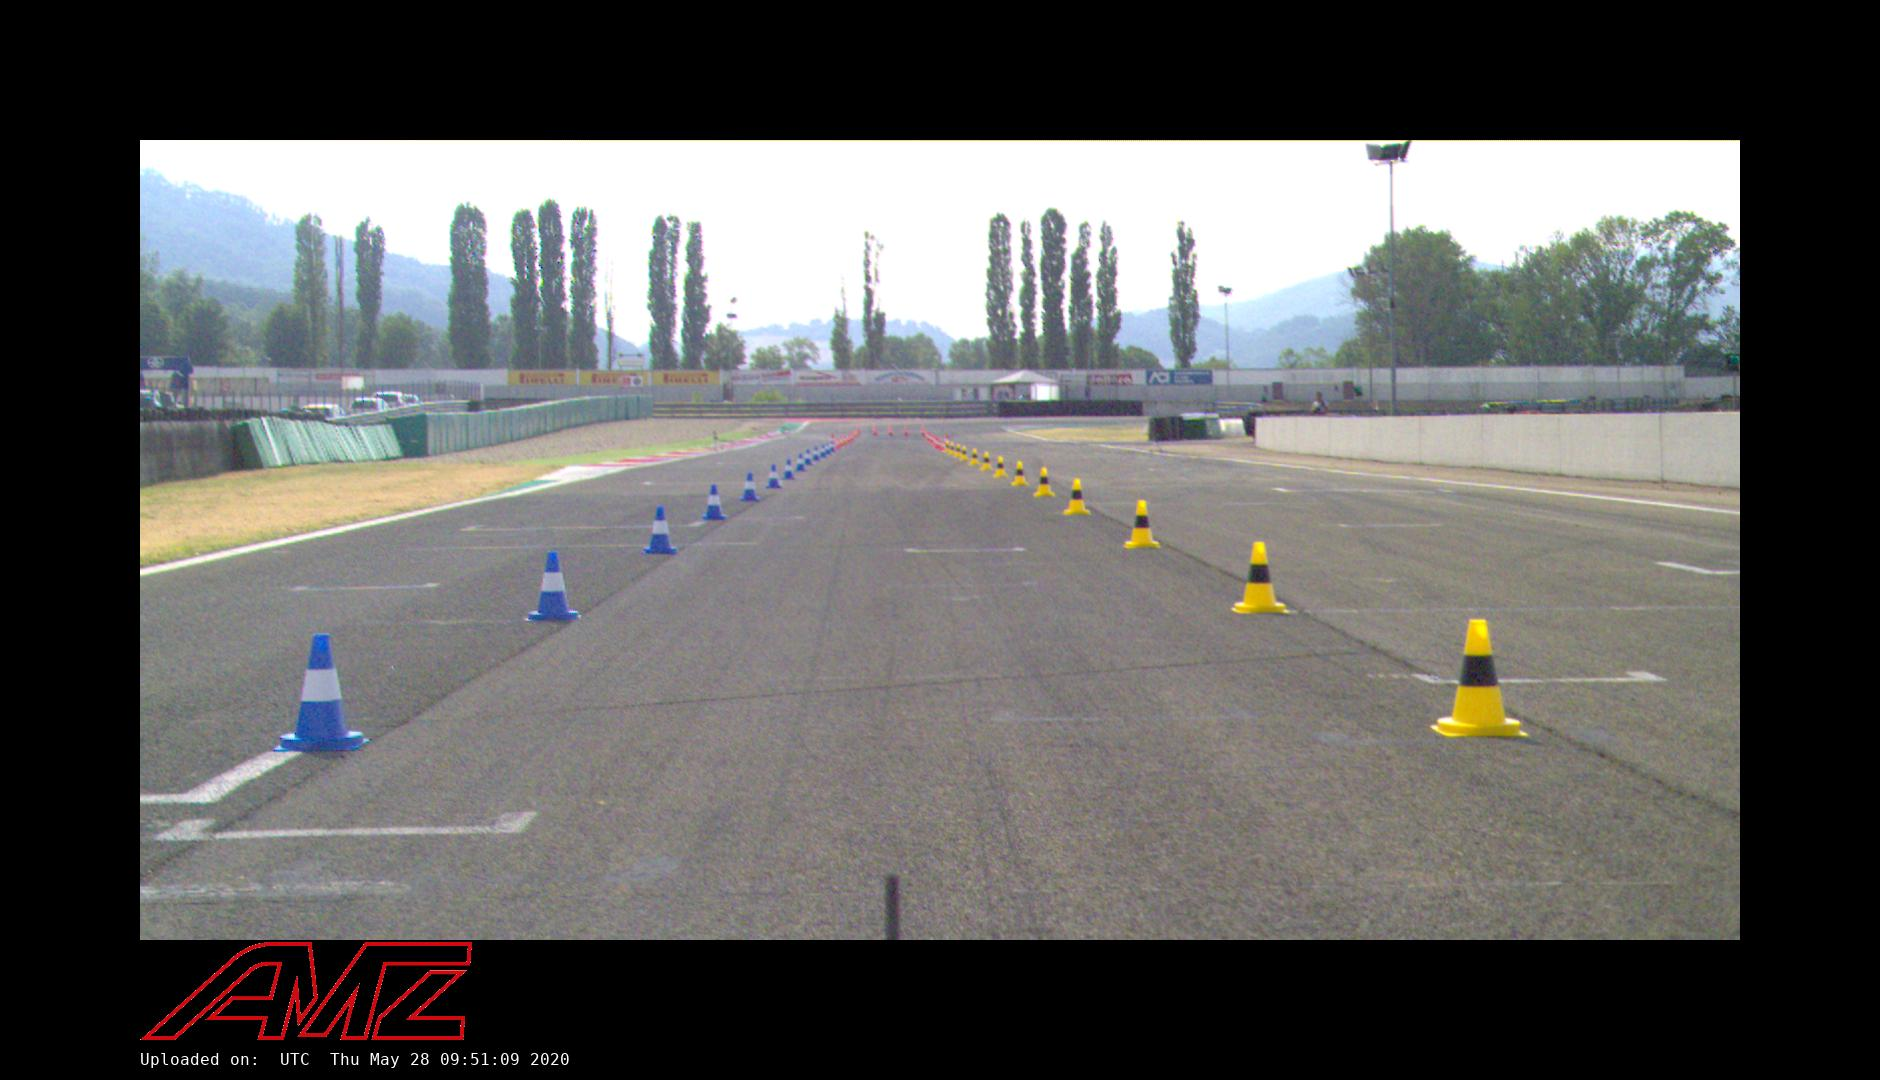blue_cone: (270, 632, 374, 752), (524, 550, 584, 621), (640, 505, 680, 556), (701, 484, 730, 521), (739, 472, 761, 503), (764, 464, 782, 488), (782, 459, 795, 481), (795, 453, 807, 472), (804, 448, 813, 466), (812, 446, 821, 462), (819, 444, 826, 459)
yellow_cone: (1429, 619, 1531, 739), (1231, 541, 1289, 614), (1125, 500, 1161, 549), (1063, 477, 1091, 517), (1033, 466, 1055, 497), (1011, 460, 1030, 487), (992, 455, 1008, 478), (977, 451, 994, 472), (968, 448, 983, 466), (959, 444, 970, 462), (953, 443, 963, 459)
